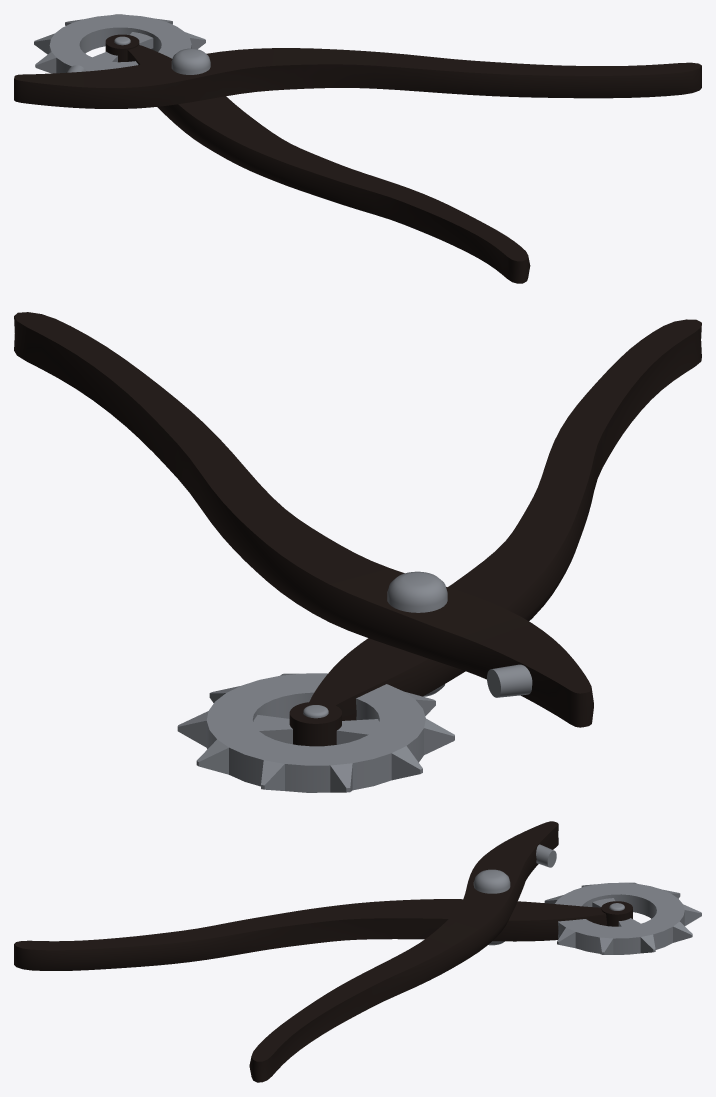
Rendered from F_Tool_01.fbx.
3 renders of one model, top to bottom at view 1: azimuth 30°, elevation 25°; view 2: azimuth 150°, elevation 25°; view 3: azimuth 270°, elevation 25°, orthographic. The views are drawn at different scales.
Visible parts, largest first — view 1: F_Tool_01; view 2: F_Tool_01; view 3: F_Tool_01.
Boxes of the visible parts, x1,y1,x2,y2 form: F_Tool_01: (14, 14, 701, 283); F_Tool_01: (14, 312, 701, 792); F_Tool_01: (14, 821, 701, 1082).
Bounding box in the file's own units: 22.19 × 2.87 × 26.79.
1 material, 1 textured.
